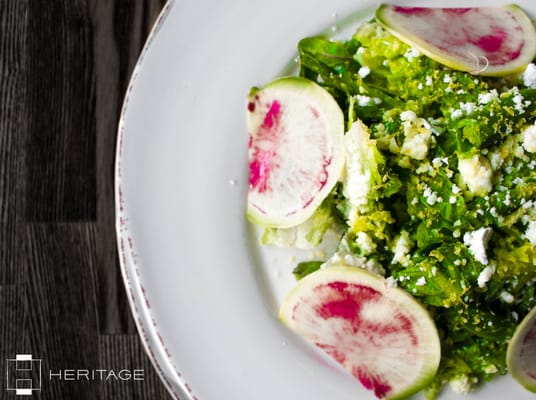curry: (296, 23, 536, 331)
